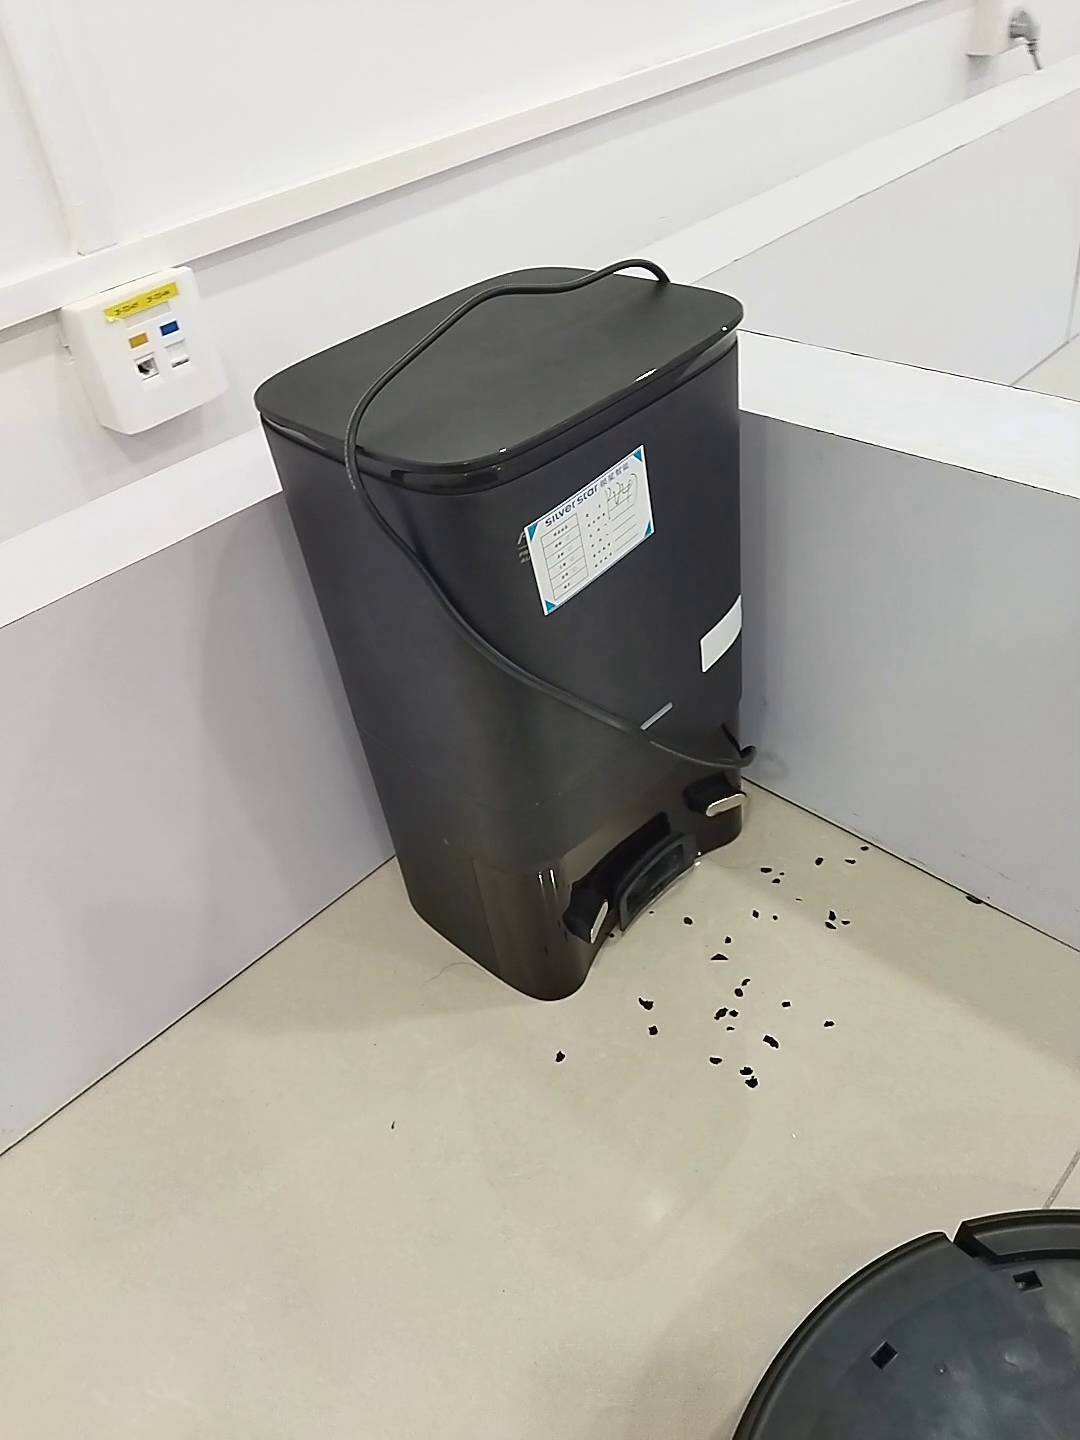dust collecting barrel: (250, 268, 745, 1000)
